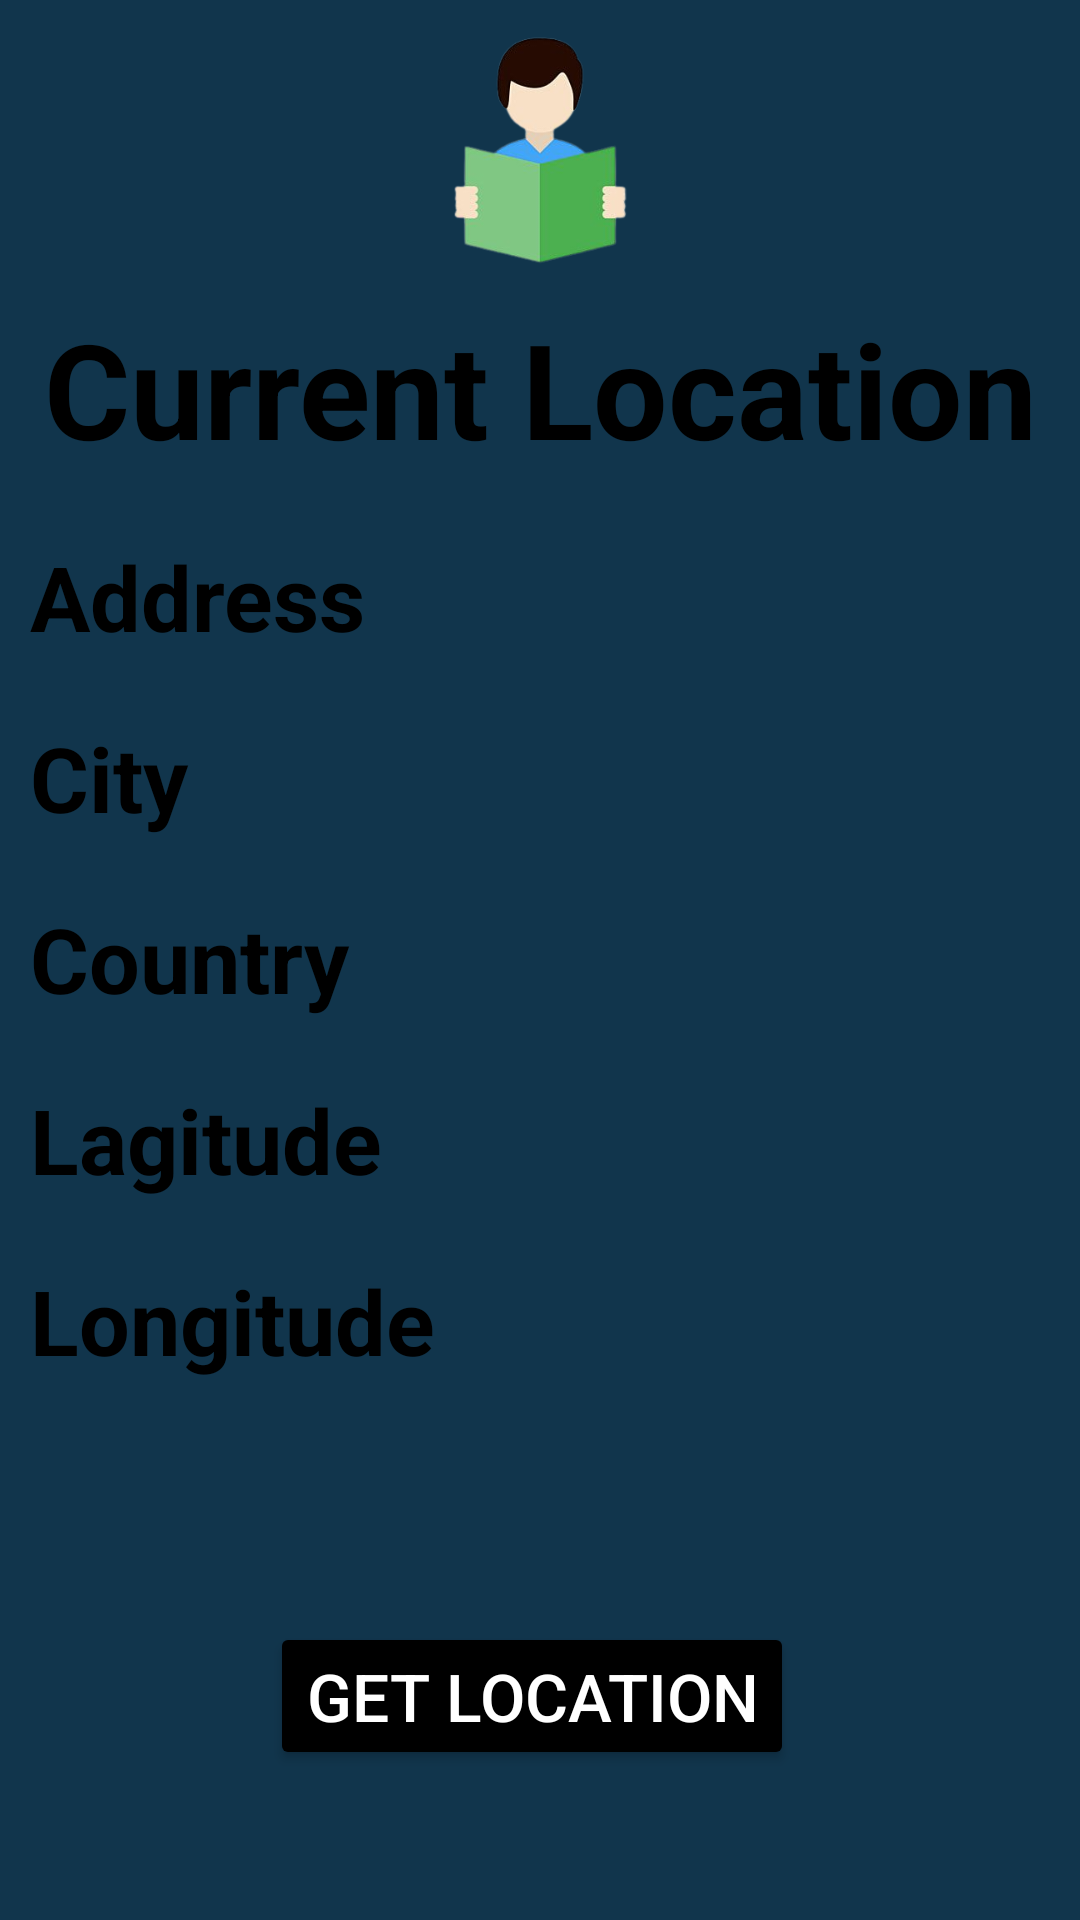

Named icons in this screenshot (1080x1920) and their bounding boxes, (x1, y1, x2, y2):
userphoto: (454, 38, 626, 263)
